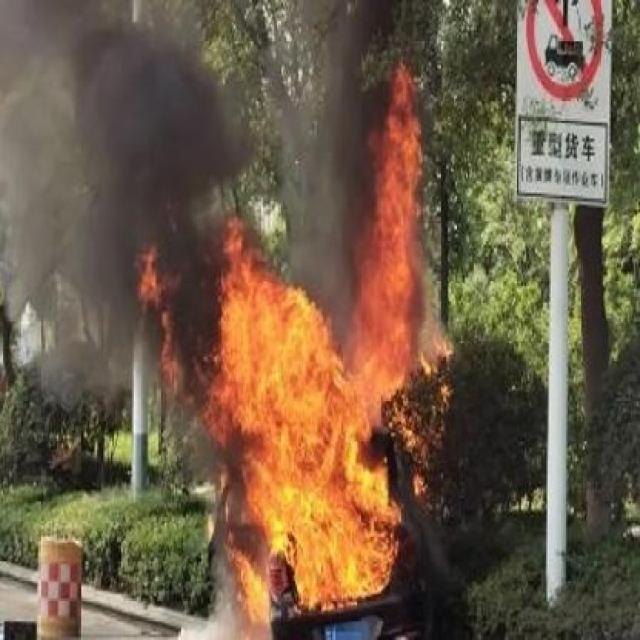Fire: (214, 45, 466, 632)
Smoke: (2, 2, 208, 408)
